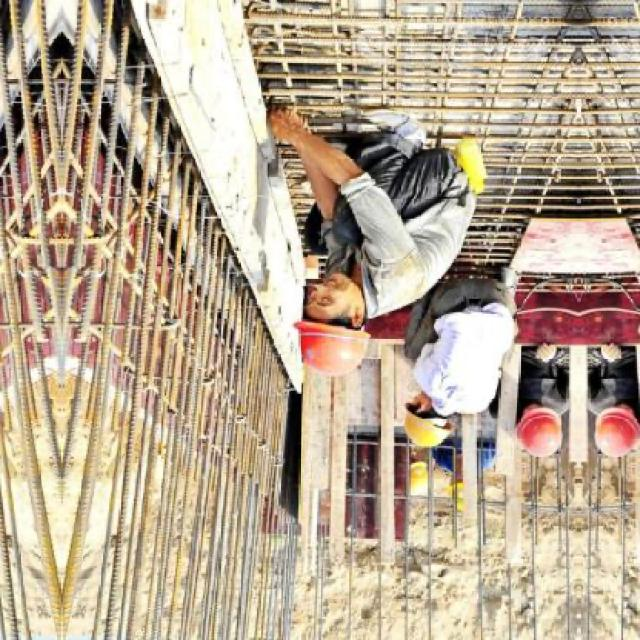con casco: (288, 248, 432, 385), (380, 371, 474, 443), (482, 382, 566, 462), (585, 374, 640, 479)
